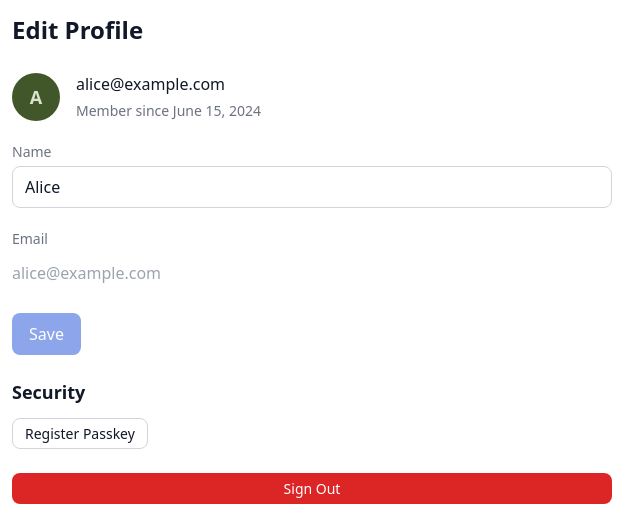
Scenario: EditProfilePage (me.vue) › shows error message when passkey registration fails
The image size is (629, 521).
Click the button "Register Passkey": point(80, 434) [12, 418, 148, 449]
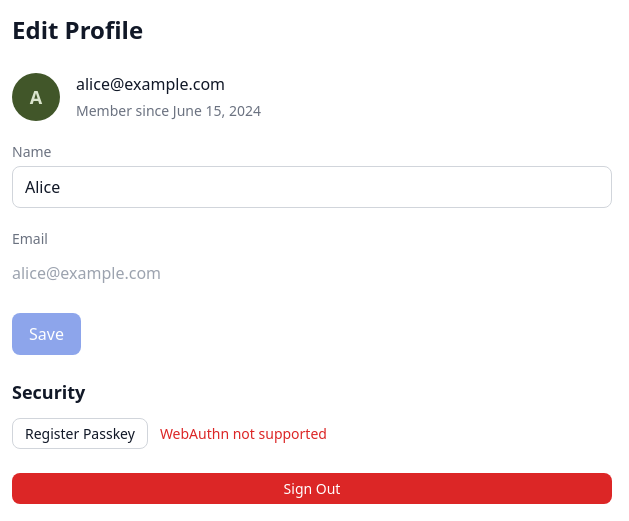
Result: the message "WebAuthn not supported" is shown at [160, 423, 327, 444]
